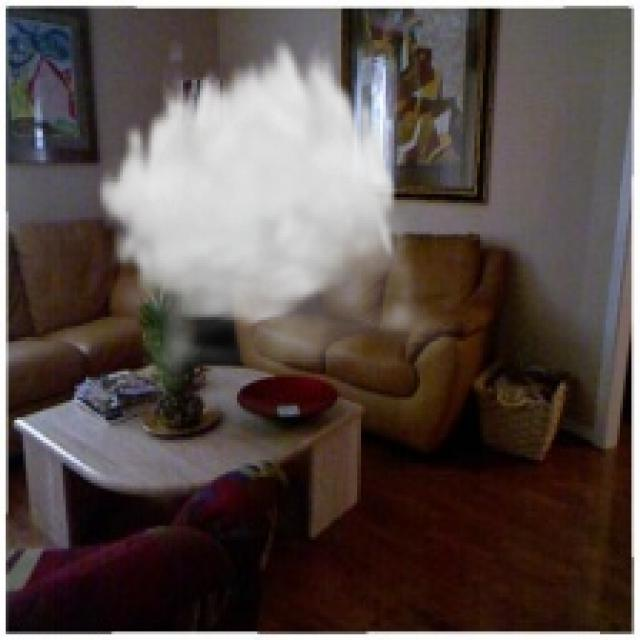smoke: (94, 32, 463, 397)
